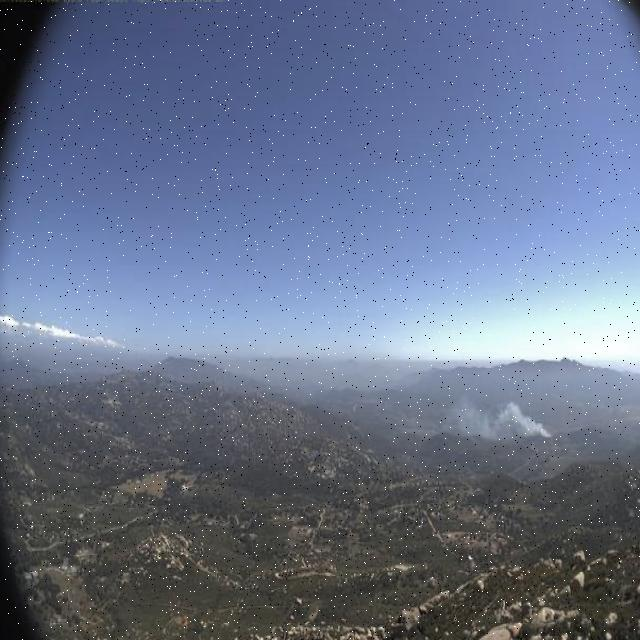smoke: (426, 390, 552, 443)
